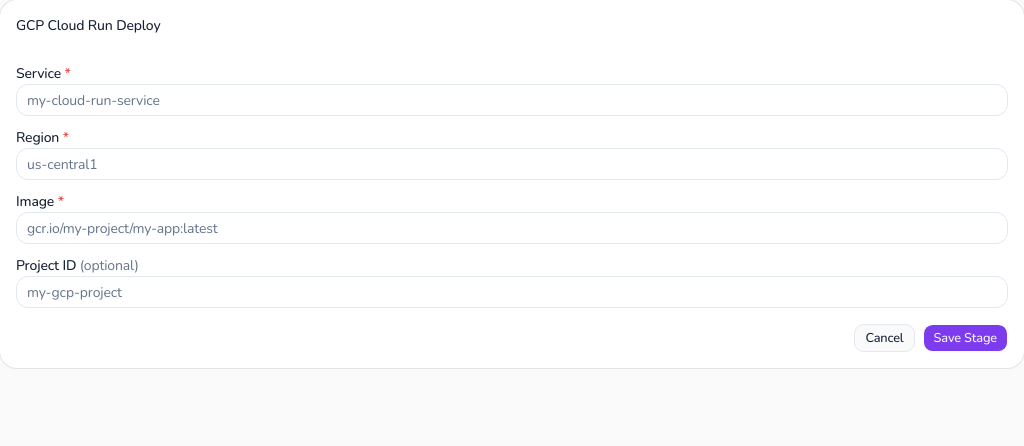
Test: CloudDeployStageCard › gcp-cloud-run › validates required fields
Click the button "Save Stage": x=965, y=338 top-left (922, 324), bottom-right (1008, 352)
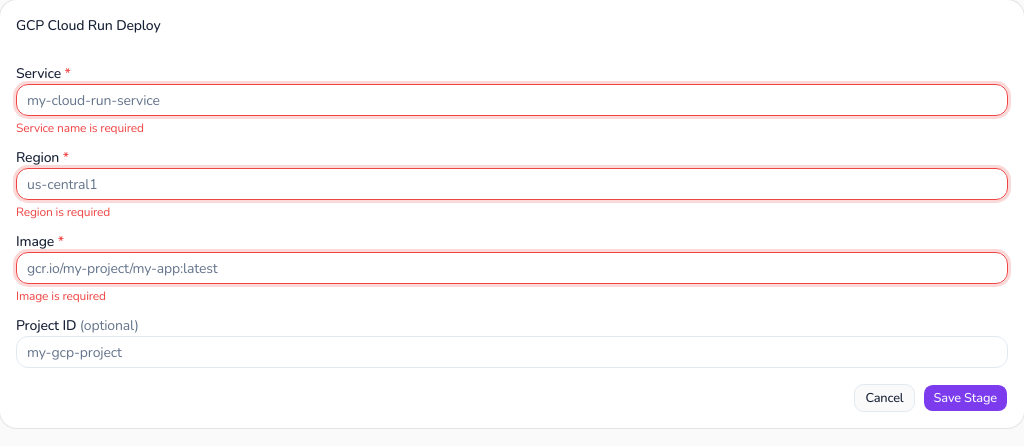
Result: the text "Service name is required" is shown at top-left (16, 120), bottom-right (144, 136)
Result: the text "Region is required" is shown at top-left (16, 204), bottom-right (110, 220)
